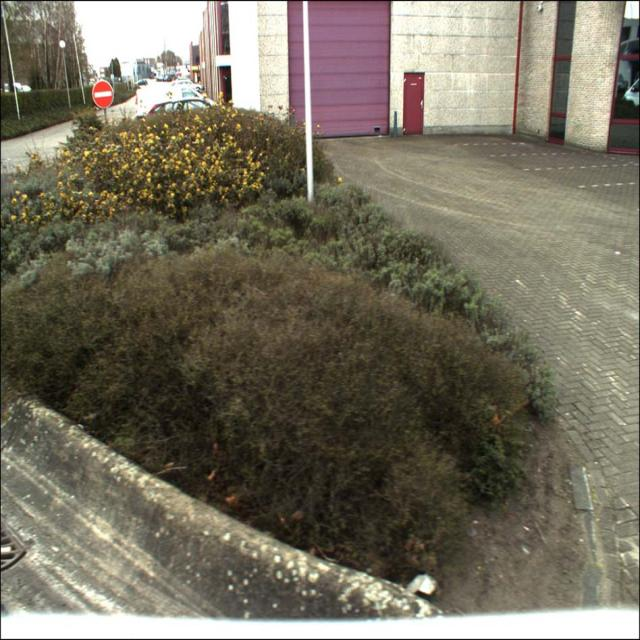girisyok: (92, 79, 114, 109)
